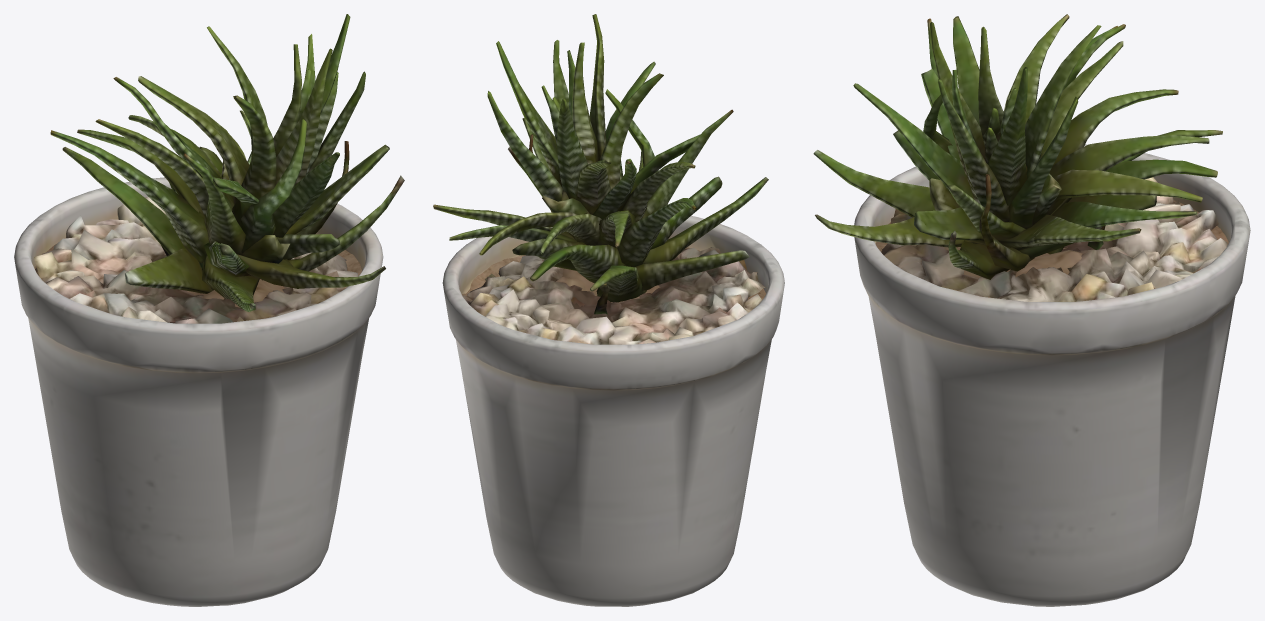
File: potted_plant_04.glb
3 renders of one model, left to right at view 1: azimuth 30°, elevation 25°; view 2: azimuth 150°, elevation 25°; view 3: azimuth 270°, elevation 25°, orthographic. The views are drawn at different scales.
Parts seen in each view (by area): view 1: potted_plant_04_ground; view 2: potted_plant_04_ground; view 3: potted_plant_04_ground.
Part boxes in pixels (left/top/right/bottom): potted_plant_04_ground: left=14, top=14, right=404, bottom=606; potted_plant_04_ground: left=433, top=14, right=784, bottom=606; potted_plant_04_ground: left=813, top=14, right=1250, bottom=606.
Size of the model in its own units: 0.1679 by 0.2675 by 0.1847.
1 material, 1 textured.
